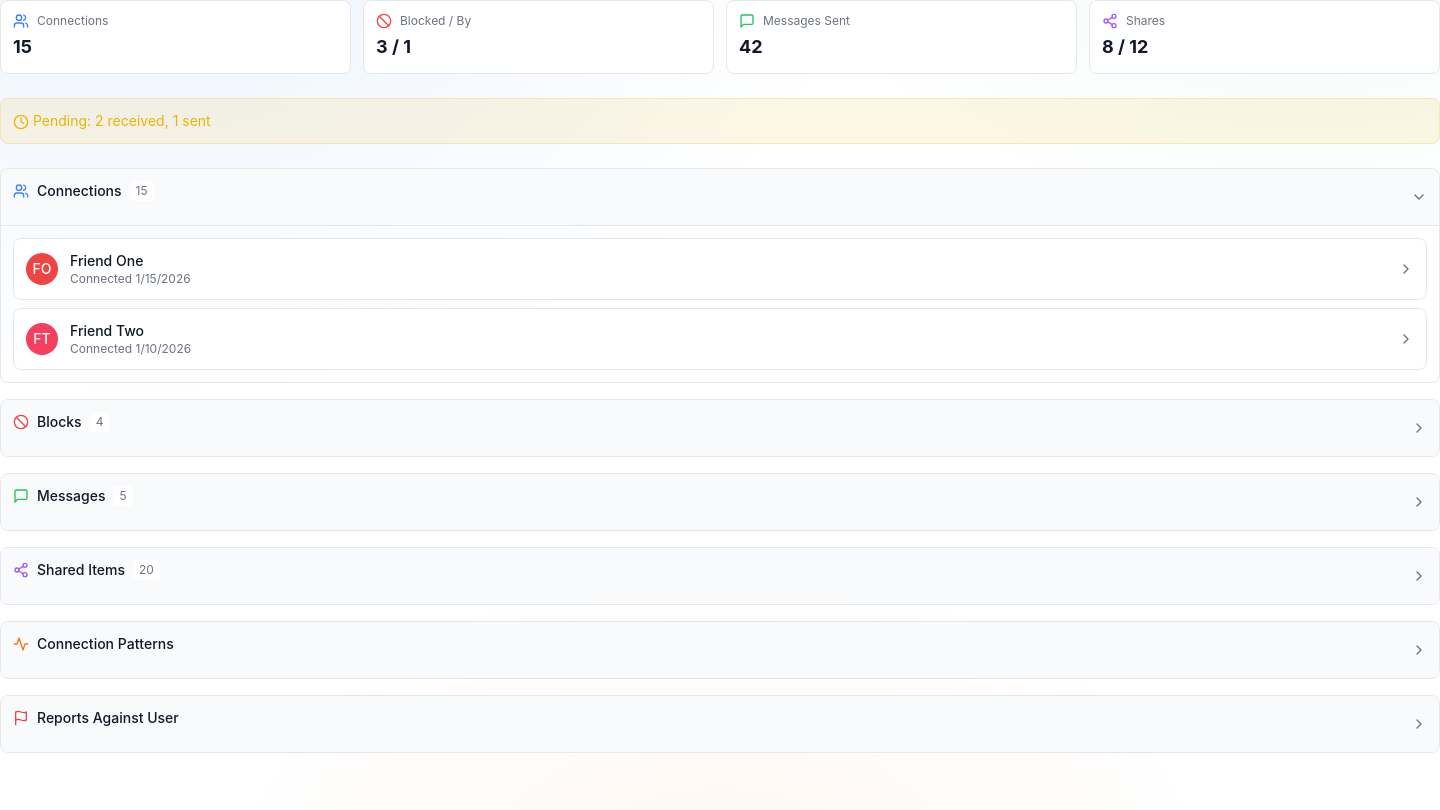
Test: UserSocialTab › clicking messages stat card expands messages section
Expected: the text "42" is shown, [739,36,762,57]
# Click the Messages stat card (find by the value since it's unique)
What coordinates should you click on to do the following:
click the button "Messages Sent 42"
I would click on:
 (807, 20)
Its box is [726,0,1077,74].
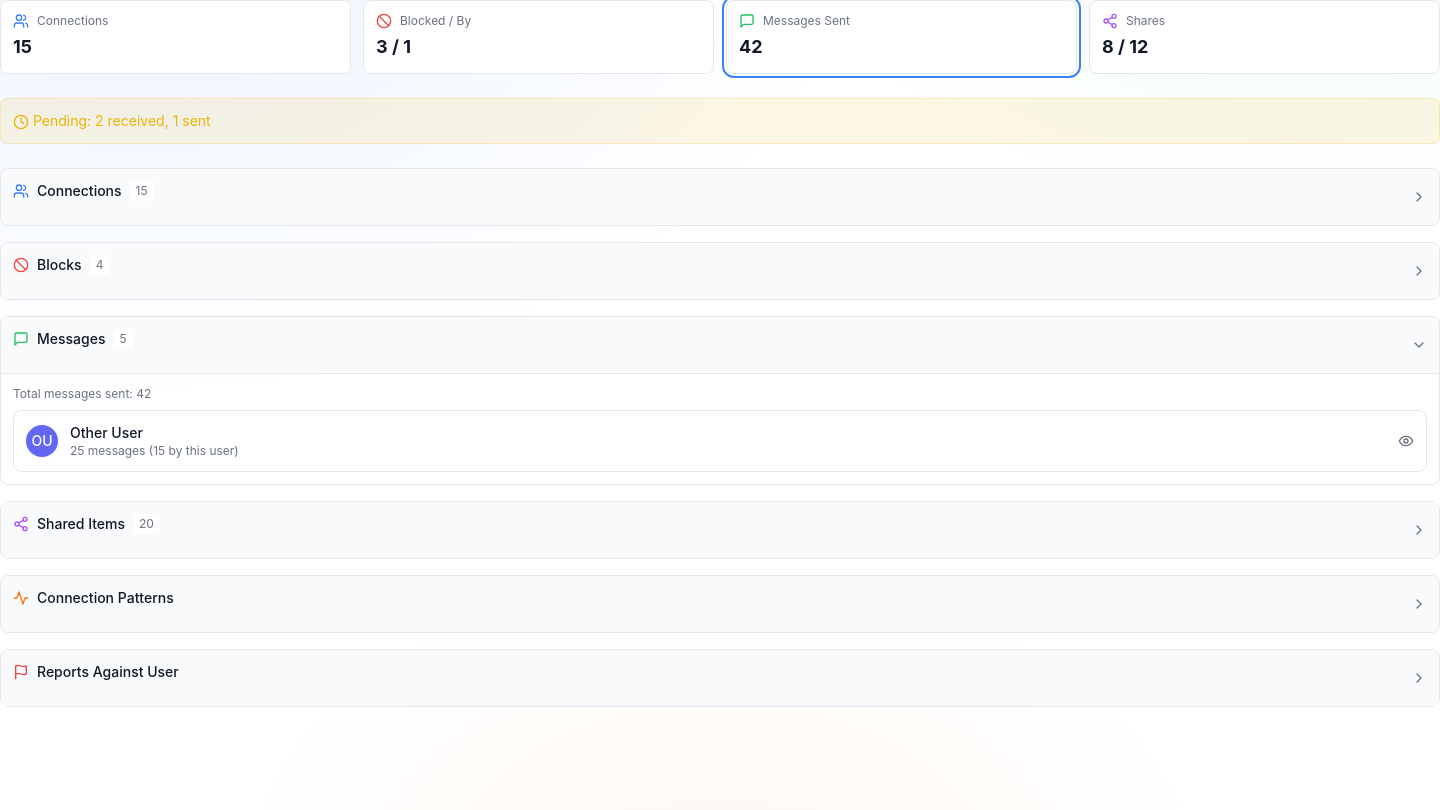
Now the text "Total messages sent: 42" is shown, box [13,386,151,401]
Now the text "Other User" is shown, box [70,424,143,441]
